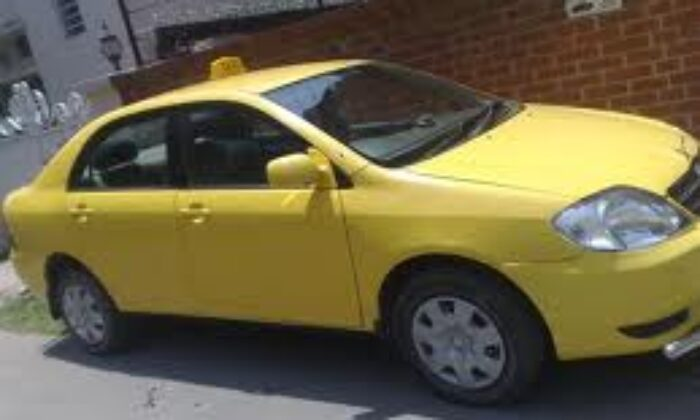taxi: (1, 55, 700, 403)
